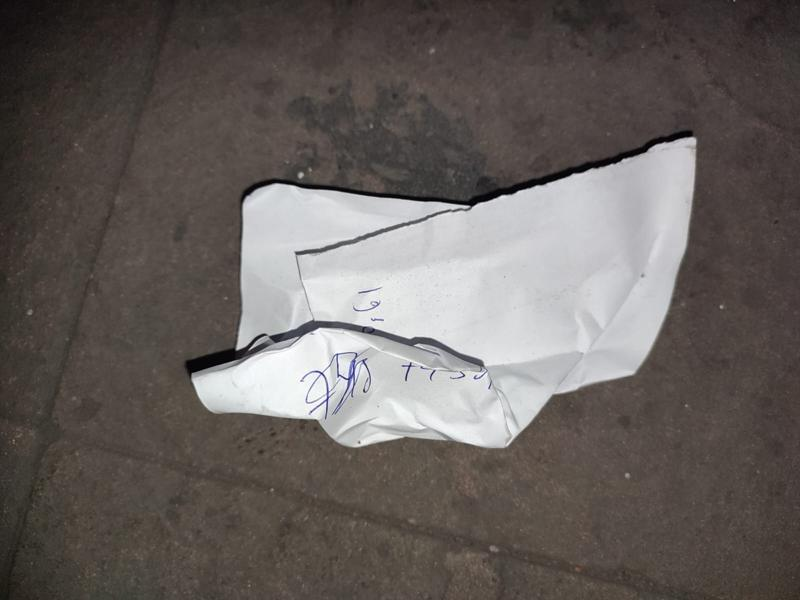papel: (184, 131, 699, 451)
